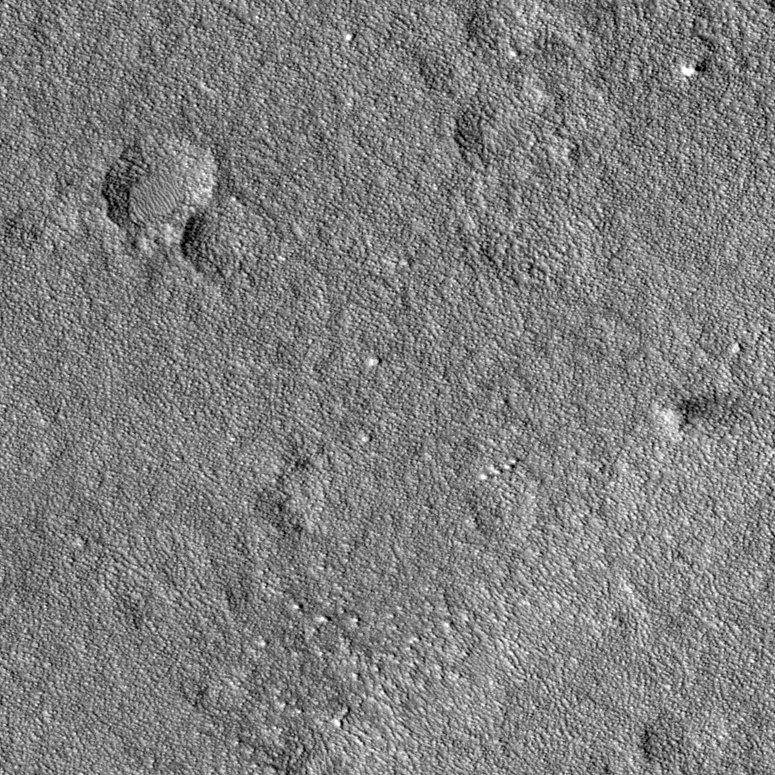dust_devil: (655, 391, 741, 433)
